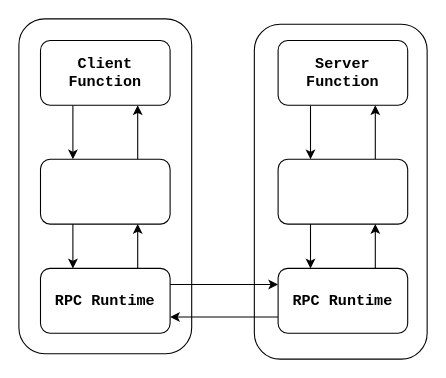
The diagram is 446 pixels wide and 378 high, and some of its shapes have lost their labels. The box of each missing label's shape, as (x1, y1, x2, y2) in pixels:
Client Stub: (39, 158, 170, 224)
Server Stub: (277, 158, 408, 224)
